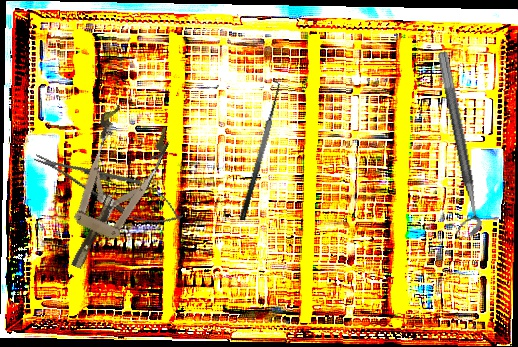Fixation Ring: (421, 50, 485, 241)
Needle Holder: (28, 139, 189, 236)
Spatula Surgical: (227, 78, 288, 222)
Speculum: (42, 100, 175, 282)
